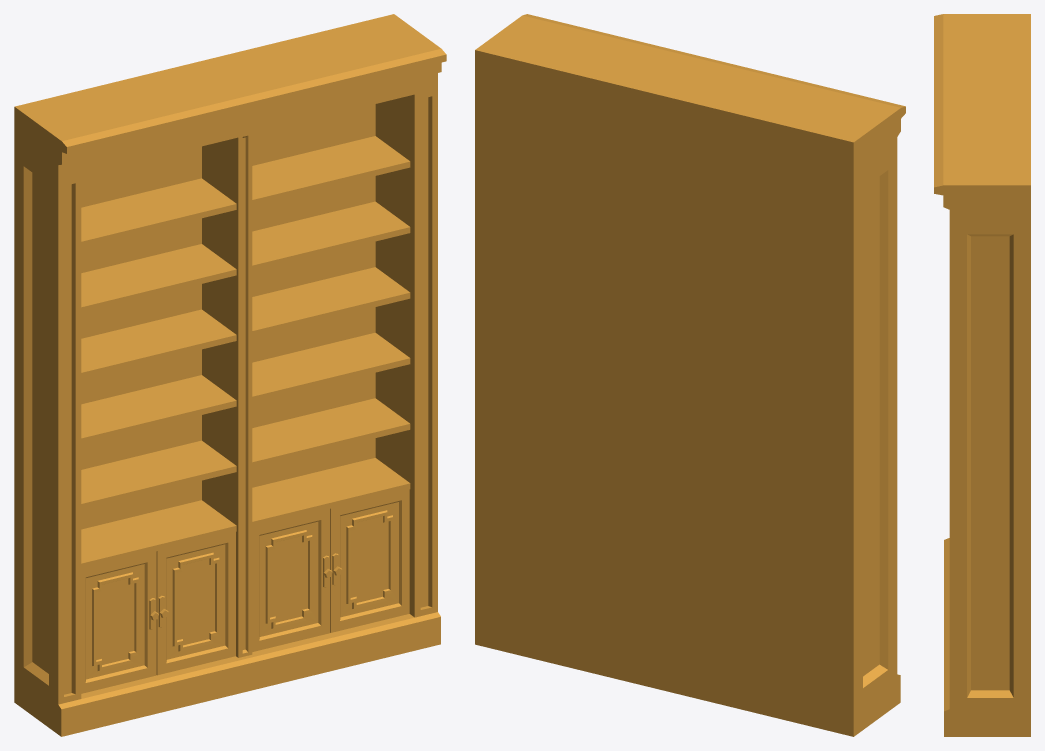
The model's file is Sm_Bookcase_Modular_Cabinet_2m.fbx.
3 renders of one model, left to right at view 1: azimuth 30°, elevation 25°; view 2: azimuth 150°, elevation 25°; view 3: azimuth 270°, elevation 25°, orthographic. The views are drawn at different scales.
Parts seen in each view (by area): view 1: library-modular-cabinet-2m-base, library-modular-cabinet-2m-door-r-b, library-modular-cabinet-2m-door-r-a, library-modular-cabinet-2m-door-l-b, library-modular-cabinet-2m-door-l-a; view 2: library-modular-cabinet-2m-base; view 3: library-modular-cabinet-2m-base.
Boxes of the visible parts, box(x1,y1,x2,y2) form: library-modular-cabinet-2m-base: box(14, 14, 446, 736); library-modular-cabinet-2m-door-r-b: box(330, 489, 409, 632); library-modular-cabinet-2m-door-r-a: box(156, 532, 235, 675); library-modular-cabinet-2m-door-l-b: box(252, 509, 332, 651); library-modular-cabinet-2m-door-l-a: box(81, 551, 158, 693); library-modular-cabinet-2m-base: box(475, 14, 905, 736); library-modular-cabinet-2m-base: box(934, 14, 1030, 736).
Bounding box in the file's own units: 2 × 3 × 0.4778.
